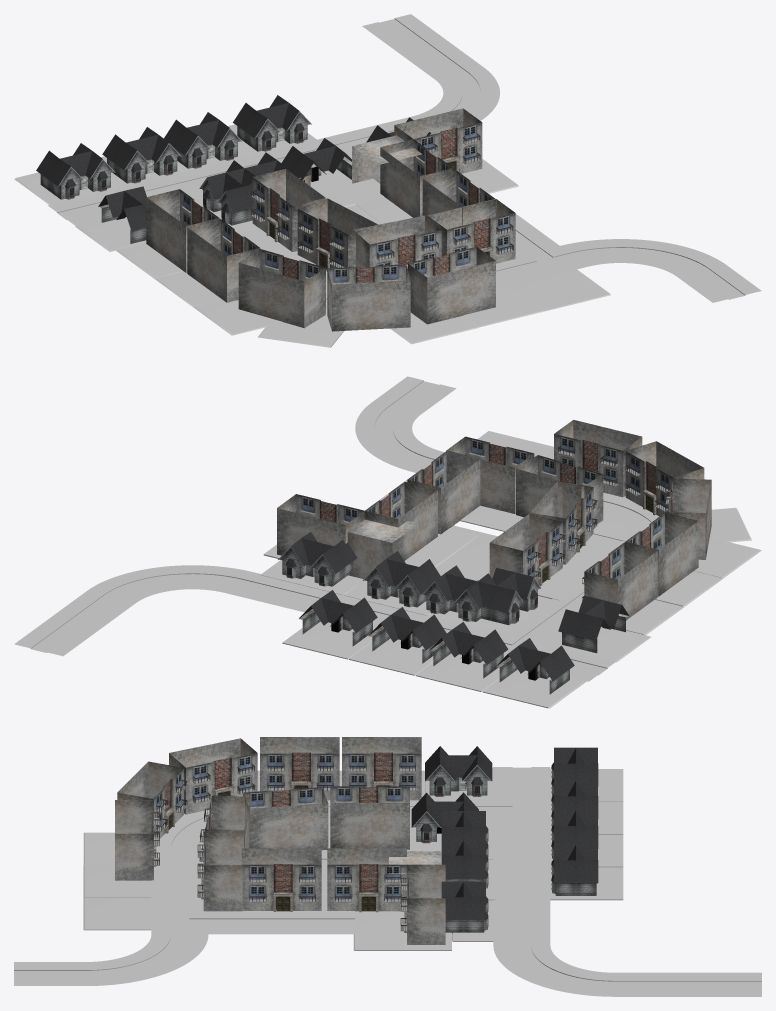
File: Mundo4Unity.fbx
3 renders of one model, top to bottom at view 1: azimuth 30°, elevation 25°; view 2: azimuth 150°, elevation 25°; view 3: azimuth 270°, elevation 25°, orthographic.
Parts seen in each view (by area): view 1: pCube1 (×12), LittleHouse2 (×8), CarreteraRecta19, CarreteraRecta27, SueloCemento_16, CarreteraRecta18, CarreteraRecta28, CarreteraRecta29, SueloCemento_14, SueloCemento_4, SueloCemento_15, SueloCemento_9 (+16 smaller); view 2: pCube1 (×12), LittleHouse2 (×9), CarreteraRecta27, CarreteraRecta19, SueloCemento_12, SueloCemento_5, CarreteraRecta18, CarreteraRecta29, CarreteraRecta28, SueloCemento_8, SueloCemento_6, CarreteraRecta26 (+22 smaller); view 3: pCube1 (×12), LittleHouse2 (×8), CarreteraRecta27, CarreteraRecta19, SueloCemento_19, SueloCemento_16, SueloCemento_15, CarreteraRecta28, CarreteraRecta29, CarreteraRecta1, CarreteraRecta2, CarreteraRecta24 (+20 smaller).
Boxes of the visible parts, bbox=[...] form: pCube1 (×12): bbox=[146, 108, 515, 331]; LittleHouse2 (×8): bbox=[36, 95, 351, 243]; CarreteraRecta19: bbox=[560, 239, 724, 276]; CarreteraRecta27: bbox=[412, 67, 499, 120]; SueloCemento_16: bbox=[511, 269, 610, 311]; CarreteraRecta18: bbox=[677, 264, 761, 302]; CarreteraRecta28: bbox=[398, 40, 483, 79]; CarreteraRecta29: bbox=[362, 14, 446, 52]; SueloCemento_14: bbox=[310, 169, 383, 207]; SueloCemento_4: bbox=[193, 299, 282, 335]; SueloCemento_15: bbox=[463, 285, 544, 327]; SueloCemento_9: bbox=[258, 315, 343, 347]; pCube1 (×12): bbox=[277, 420, 711, 620]; LittleHouse2 (×9): bbox=[278, 531, 629, 694]; CarreteraRecta27: bbox=[87, 565, 251, 602]; CarreteraRecta19: bbox=[355, 403, 444, 472]; SueloCemento_12: bbox=[477, 534, 625, 600]; SueloCemento_5: bbox=[482, 669, 586, 708]; CarreteraRecta18: bbox=[371, 376, 456, 414]; CarreteraRecta29: bbox=[14, 617, 99, 656]; CarreteraRecta28: bbox=[51, 591, 135, 629]; SueloCemento_8: bbox=[282, 621, 373, 659]; SueloCemento_6: bbox=[416, 653, 499, 691]; CarreteraRecta26: bbox=[224, 572, 313, 607]; pCube1 (×12): bbox=[115, 737, 445, 944]; LittleHouse2 (×8): bbox=[425, 746, 598, 933]; CarreteraRecta27: bbox=[493, 945, 615, 996]; CarreteraRecta19: bbox=[87, 934, 208, 985]; SueloCemento_19: bbox=[353, 911, 451, 950]; SueloCemento_16: bbox=[83, 897, 151, 930]; SueloCemento_15: bbox=[83, 864, 161, 897]; CarreteraRecta28: bbox=[615, 972, 688, 996]; CarreteraRecta29: bbox=[688, 972, 761, 996]; CarreteraRecta1: bbox=[493, 767, 550, 798]; CarreteraRecta2: bbox=[493, 822, 550, 853]; CarreteraRecta24: bbox=[493, 852, 550, 884].
Size of the model in its own units: 11.06 by 1.26 by 15.19.
